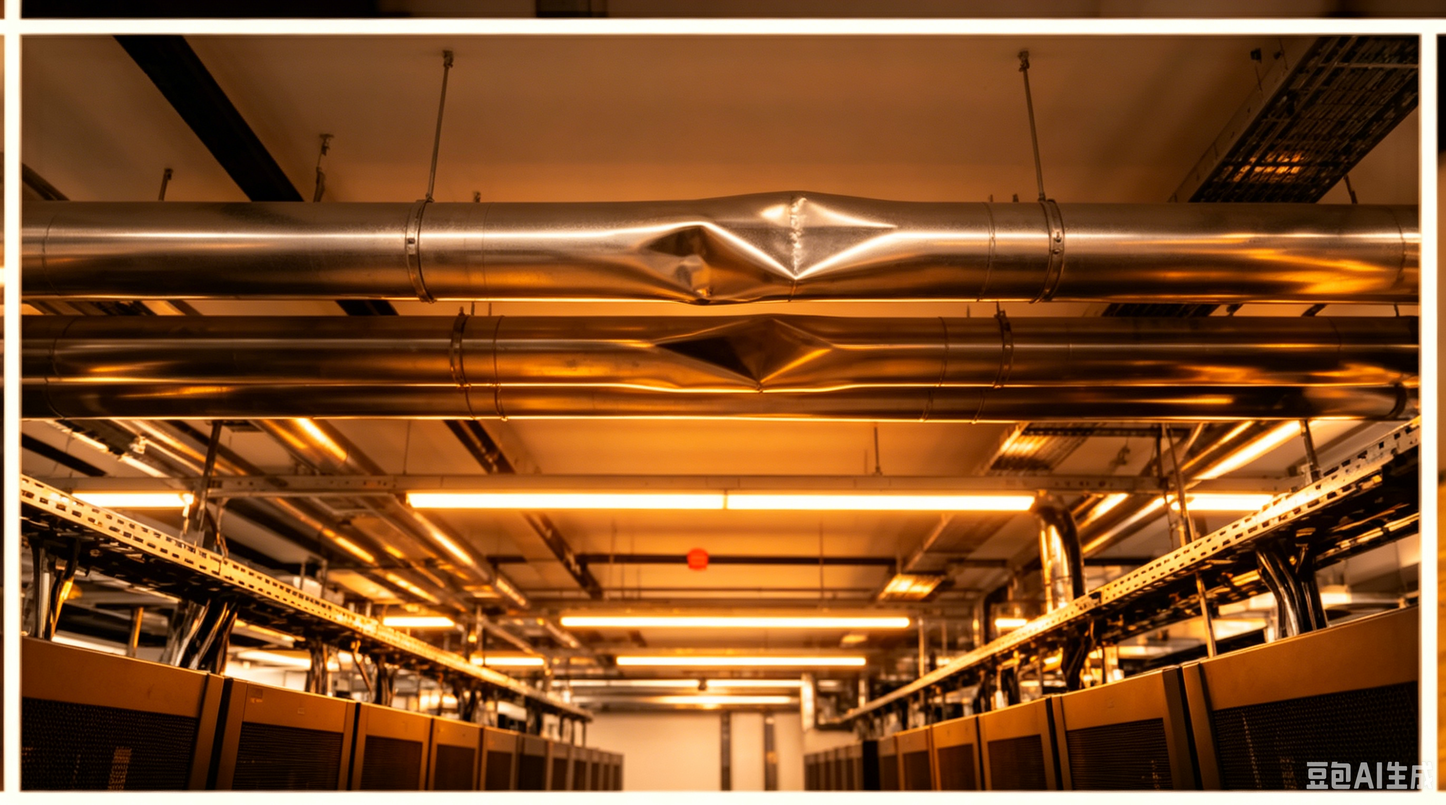Leakage: (640, 313, 889, 400), (727, 190, 937, 280), (633, 218, 740, 293)
